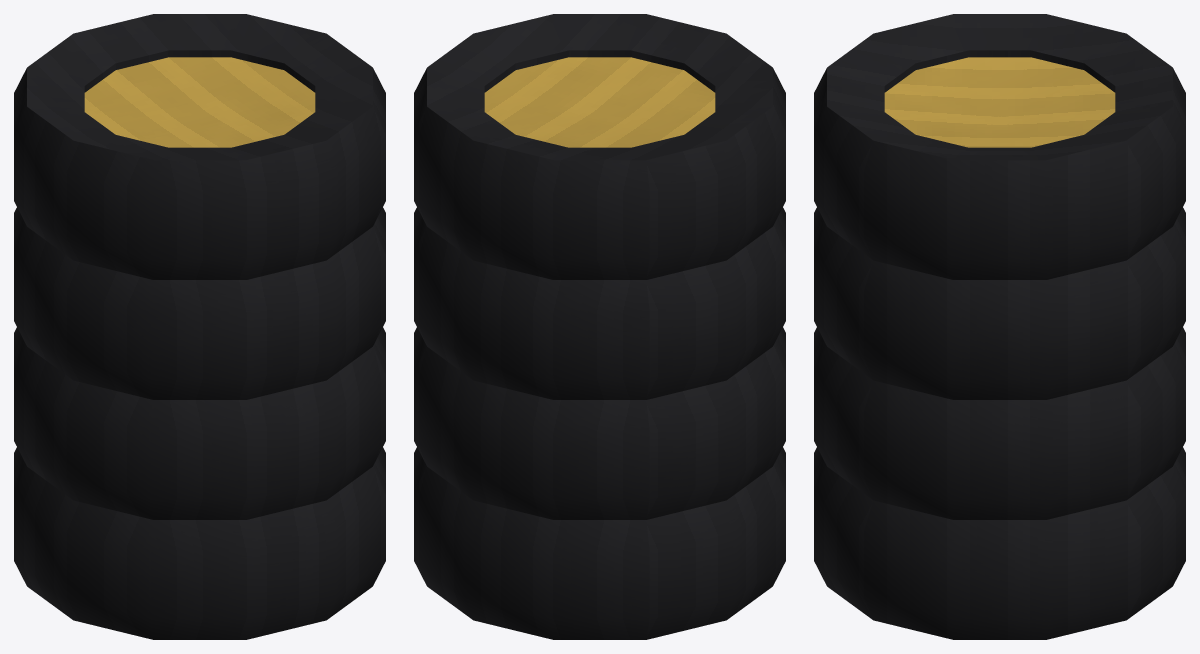
The model's file is rodas_pilha.glb.
3 renders of one model, left to right at view 1: azimuth 30°, elevation 25°; view 2: azimuth 150°, elevation 25°; view 3: azimuth 270°, elevation 25°, orthographic.
Visible parts, largest first — view 1: Inteiro, Peca_01; view 2: Inteiro, Peca_01; view 3: Inteiro, Peca_01.
Part boxes in pixels (bbox=[...]): Inteiro: bbox=[14, 14, 385, 639]; Peca_01: bbox=[14, 327, 385, 519]; Inteiro: bbox=[414, 14, 785, 639]; Peca_01: bbox=[414, 327, 785, 519]; Inteiro: bbox=[814, 14, 1185, 639]; Peca_01: bbox=[814, 328, 1185, 519].
Bounding box in the file's own units: 0.6182 × 0.88 × 0.6182.
1 material, 1 textured.
